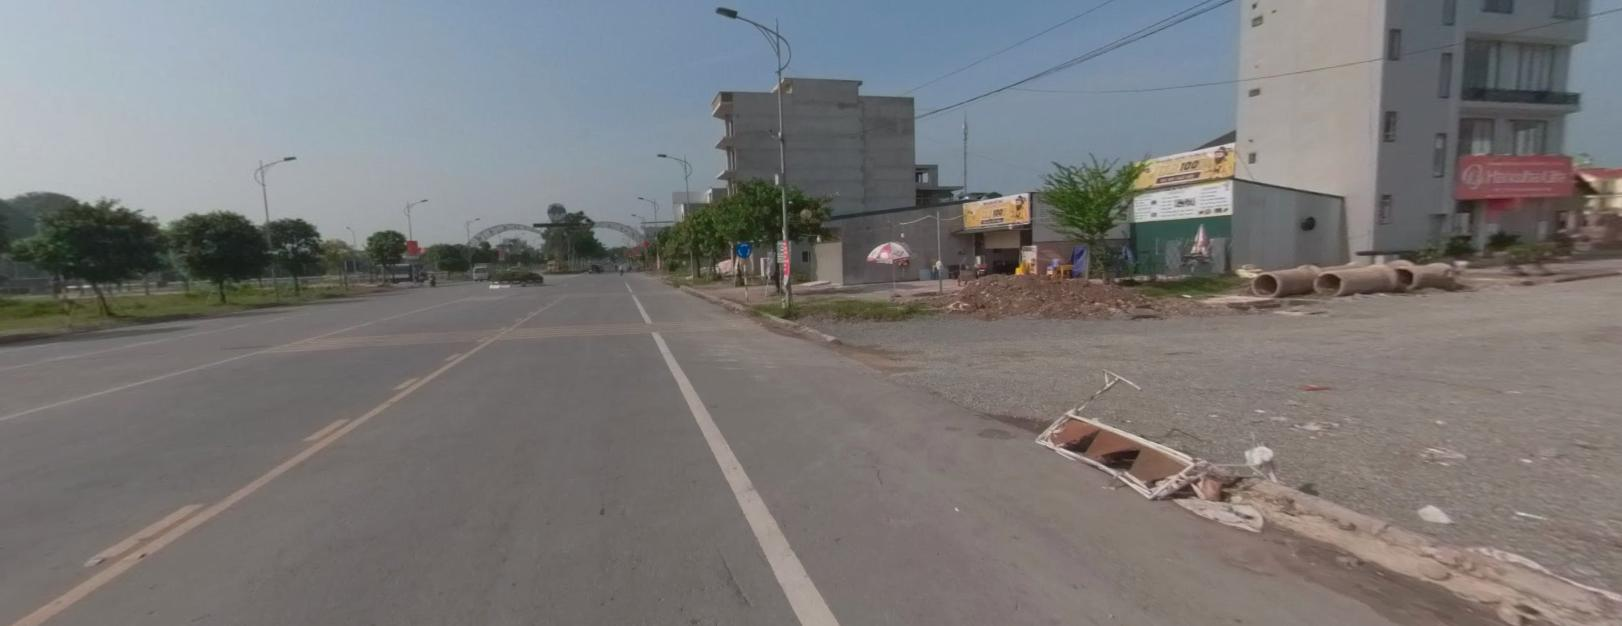Hieu lenh: (735, 241, 750, 256)
